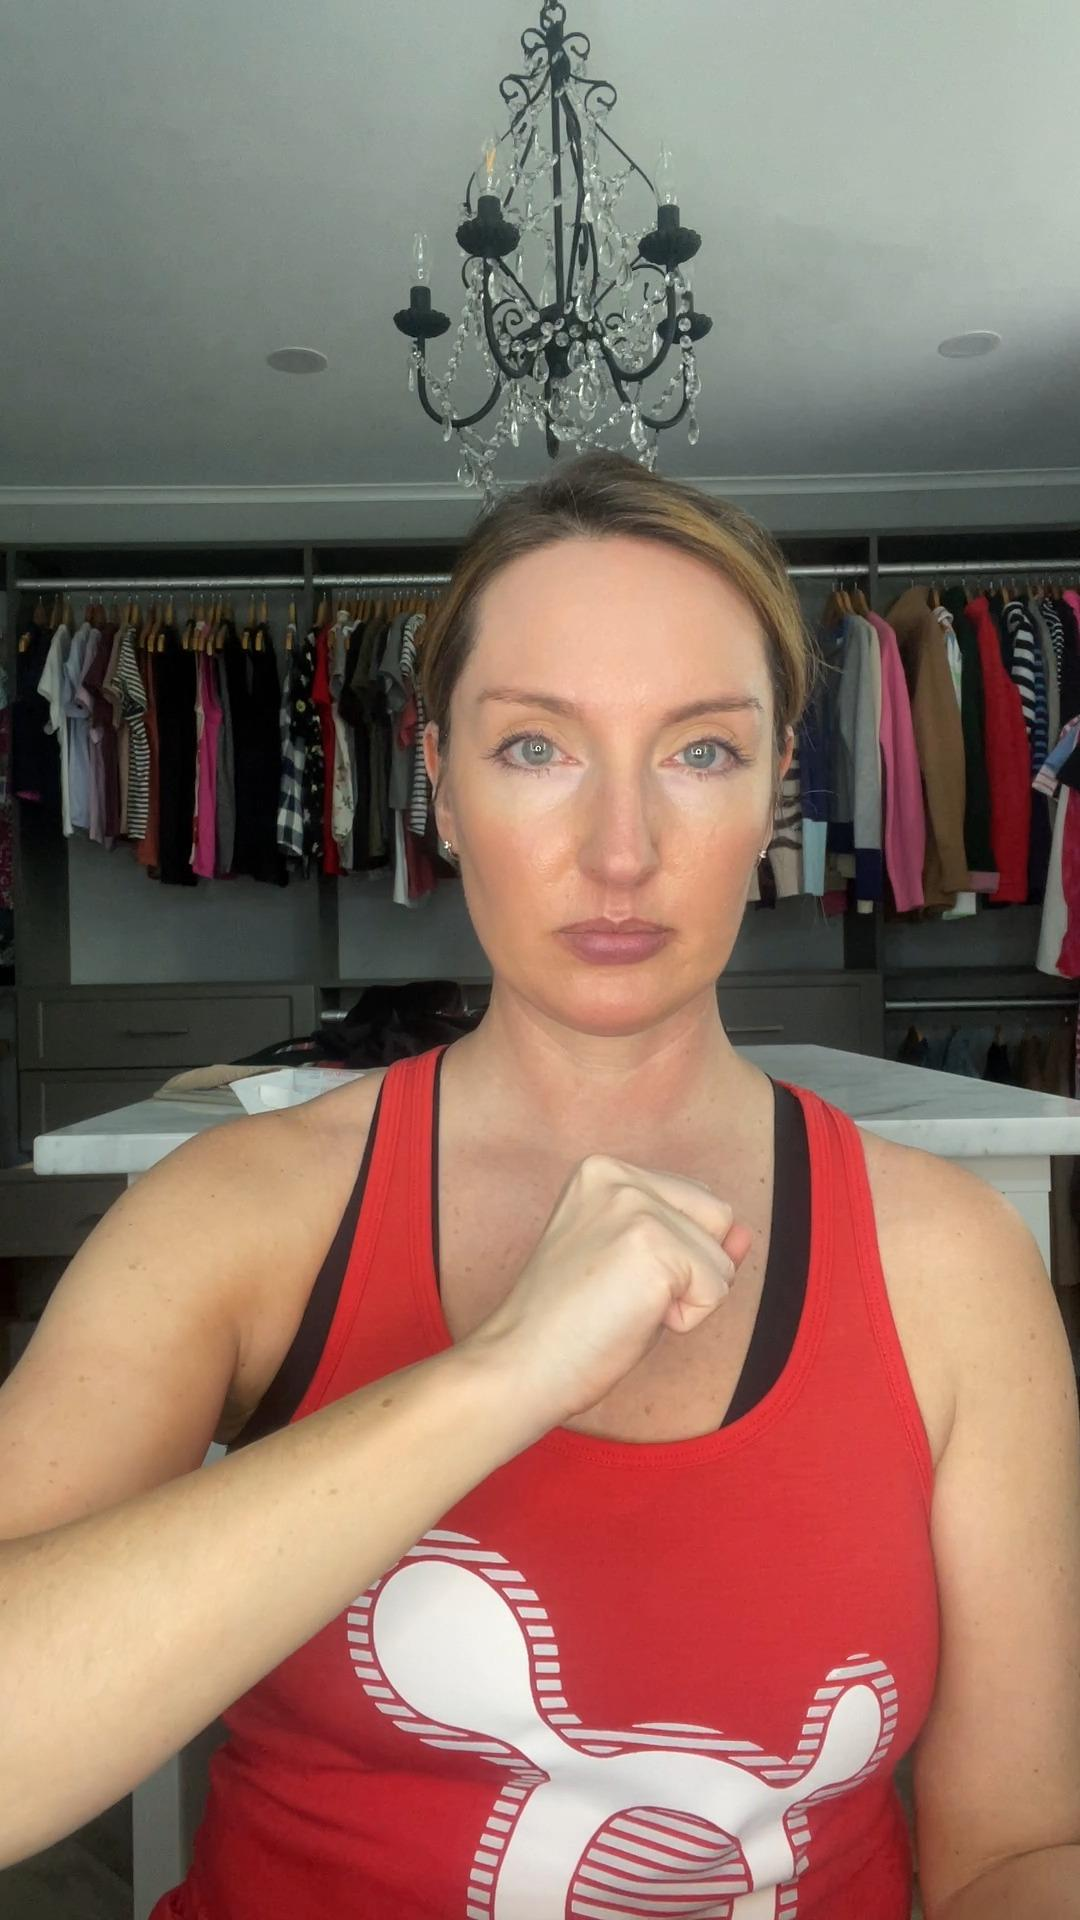Rock: (510, 1143, 761, 1424)
